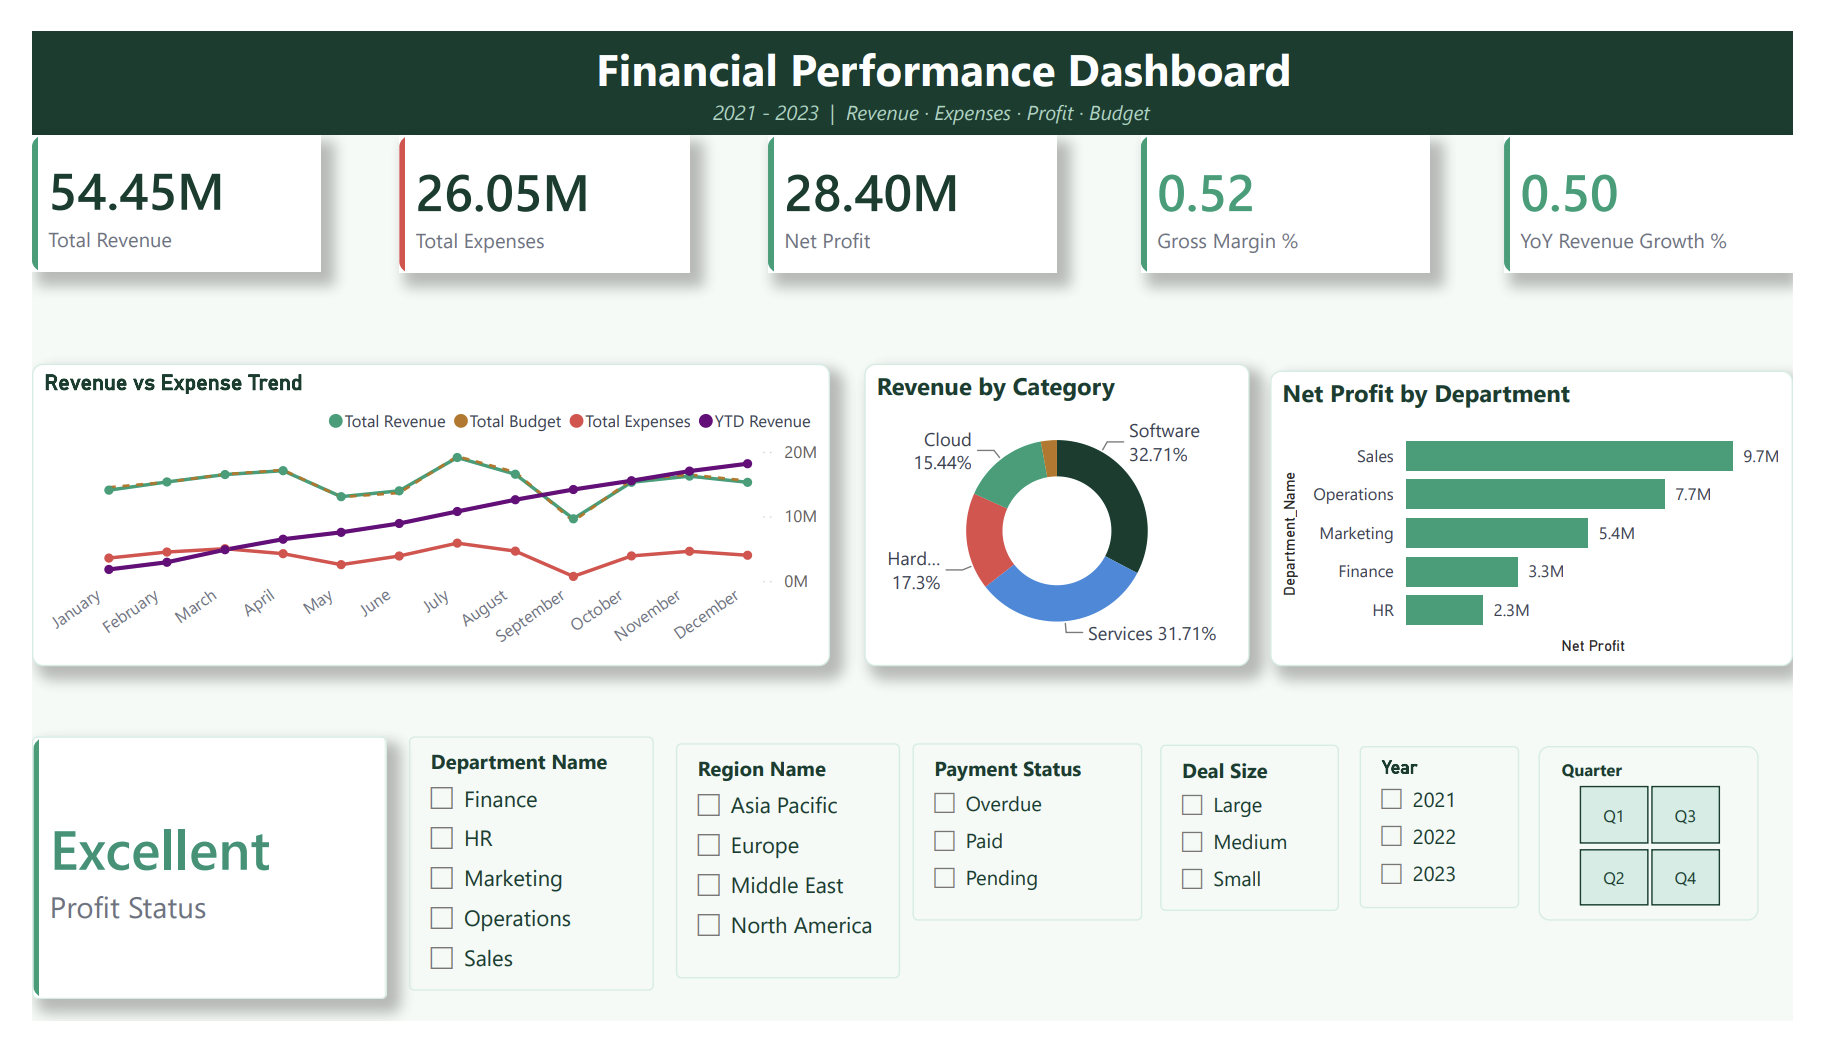

The page's visual inventory and layout, read from the dashboard file:
{"tool":"powerbi","page":{"name":"Executive Summary","canvas":[1280,720],"ordinal":0},"visuals":[{"type":"shape","box":[0,0,1280,75],"z":0},{"type":"textbox","box":[404.6,0,516.5,66.1],"z":1000},{"type":"textbox","box":[490.2,43.8,328.8,31.1],"z":2000},{"type":"cardVisual","fields":{"Data":["_Measure (2).Total Revenue"]},"box":[0,75.9,210.1,99.2],"z":3000},{"type":"cardVisual","fields":{"Data":["_Measure (2).Total Expenses"]},"box":[267.5,75.9,210.1,100.2],"z":4000},{"type":"cardVisual","fields":{"Data":["_Measure (2).Net Profit"]},"box":[535,75.9,210.1,100.2],"z":5000},{"type":"cardVisual","fields":{"Data":["_Measure (2).Gross Margin %"]},"box":[806.3,75.9,210.1,100.2],"z":6000},{"type":"cardVisual","fields":{"Data":["_Measure (2).YoY Revenue Growth %"]},"box":[1069.9,75.9,210.1,100.2],"z":7000},{"type":"cardVisual","fields":{"Data":["_Measure (2).Profit Status"]},"box":[0,512.6,257.8,191.6],"z":8000},{"type":"lineChart","title":"Revenue vs Expense Trend","fields":{"Category":["Date_Table.Month_Name"],"Y":["_Measure (2).Total Revenue","_Measure (2).Total Budget","_Measure (2).Total Expenses"],"Y2":["_Measure (2).YTD Revenue"]},"box":[0,242.2,579.7,219.8],"z":9000},{"type":"donutChart","title":"Revenue by Category","fields":{"Category":["Products.Category"],"Y":["_Measure (2).Total Revenue"]},"box":[605,242.2,280.1,219.8],"z":10000},{"type":"clusteredBarChart","title":"Net Profit by Department","fields":{"Category":["Departments.Department_Name"],"Y":["_Measure (2).Net Profit"]},"box":[899.7,247.1,380.3,215],"z":11000},{"type":"slicer","fields":{"Values":["Date_Table.Year"]},"box":[964.9,520.4,115.7,117.7],"z":12000},{"type":"slicer","fields":{"Values":["Date_Table.Quarter"]},"box":[1095.2,520.4,159.5,126.4],"z":13000},{"type":"slicer","fields":{"Values":["Regions.Region_Name"]},"box":[467.8,518.4,163.4,170.2],"z":14000},{"type":"slicer","fields":{"Values":["Transactions.Payment_Status"]},"box":[640,518.4,167.3,128.4],"z":15000},{"type":"slicer","fields":{"Values":["Departments.Department_Name"]},"box":[274.3,512.6,178,185.8],"z":16000},{"type":"slicer","fields":{"Values":["Transactions.Deal_Size"]},"box":[819.9,519.4,130.3,120.6],"z":17000}]}

Visuals, with their boxes in screenshot pixels (x1, y1, x2, y2), scaled from the page's 1280x720 canvas onto the 1824x1054 screenshot:
shape: [x1=0, y1=0, x2=1823, y2=110]
textbox: [x1=577, y1=0, x2=1313, y2=97]
textbox: [x1=699, y1=64, x2=1167, y2=110]
cardVisual - _Measure (2).Total Revenue: [x1=0, y1=111, x2=299, y2=256]
cardVisual - _Measure (2).Total Expenses: [x1=381, y1=111, x2=681, y2=258]
cardVisual - _Measure (2).Net Profit: [x1=762, y1=111, x2=1062, y2=258]
cardVisual - _Measure (2).Gross Margin %: [x1=1149, y1=111, x2=1448, y2=258]
cardVisual - _Measure (2).YoY Revenue Growth %: [x1=1525, y1=111, x2=1823, y2=258]
cardVisual - _Measure (2).Profit Status: [x1=0, y1=750, x2=367, y2=1031]
"Revenue vs Expense Trend" lineChart: [x1=0, y1=355, x2=826, y2=676]
"Revenue by Category" donutChart: [x1=862, y1=355, x2=1261, y2=676]
"Net Profit by Department" clusteredBarChart: [x1=1282, y1=362, x2=1823, y2=676]
slicer - Date_Table.Year: [x1=1375, y1=762, x2=1540, y2=934]
slicer - Date_Table.Quarter: [x1=1561, y1=762, x2=1788, y2=947]
slicer - Regions.Region_Name: [x1=667, y1=759, x2=899, y2=1008]
slicer - Transactions.Payment_Status: [x1=912, y1=759, x2=1150, y2=947]
slicer - Departments.Department_Name: [x1=391, y1=750, x2=645, y2=1022]
slicer - Transactions.Deal_Size: [x1=1168, y1=760, x2=1354, y2=937]
